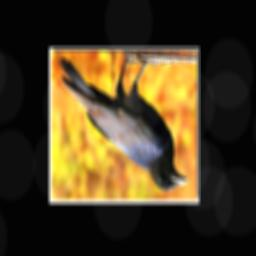Crow: (57, 57, 188, 193)
